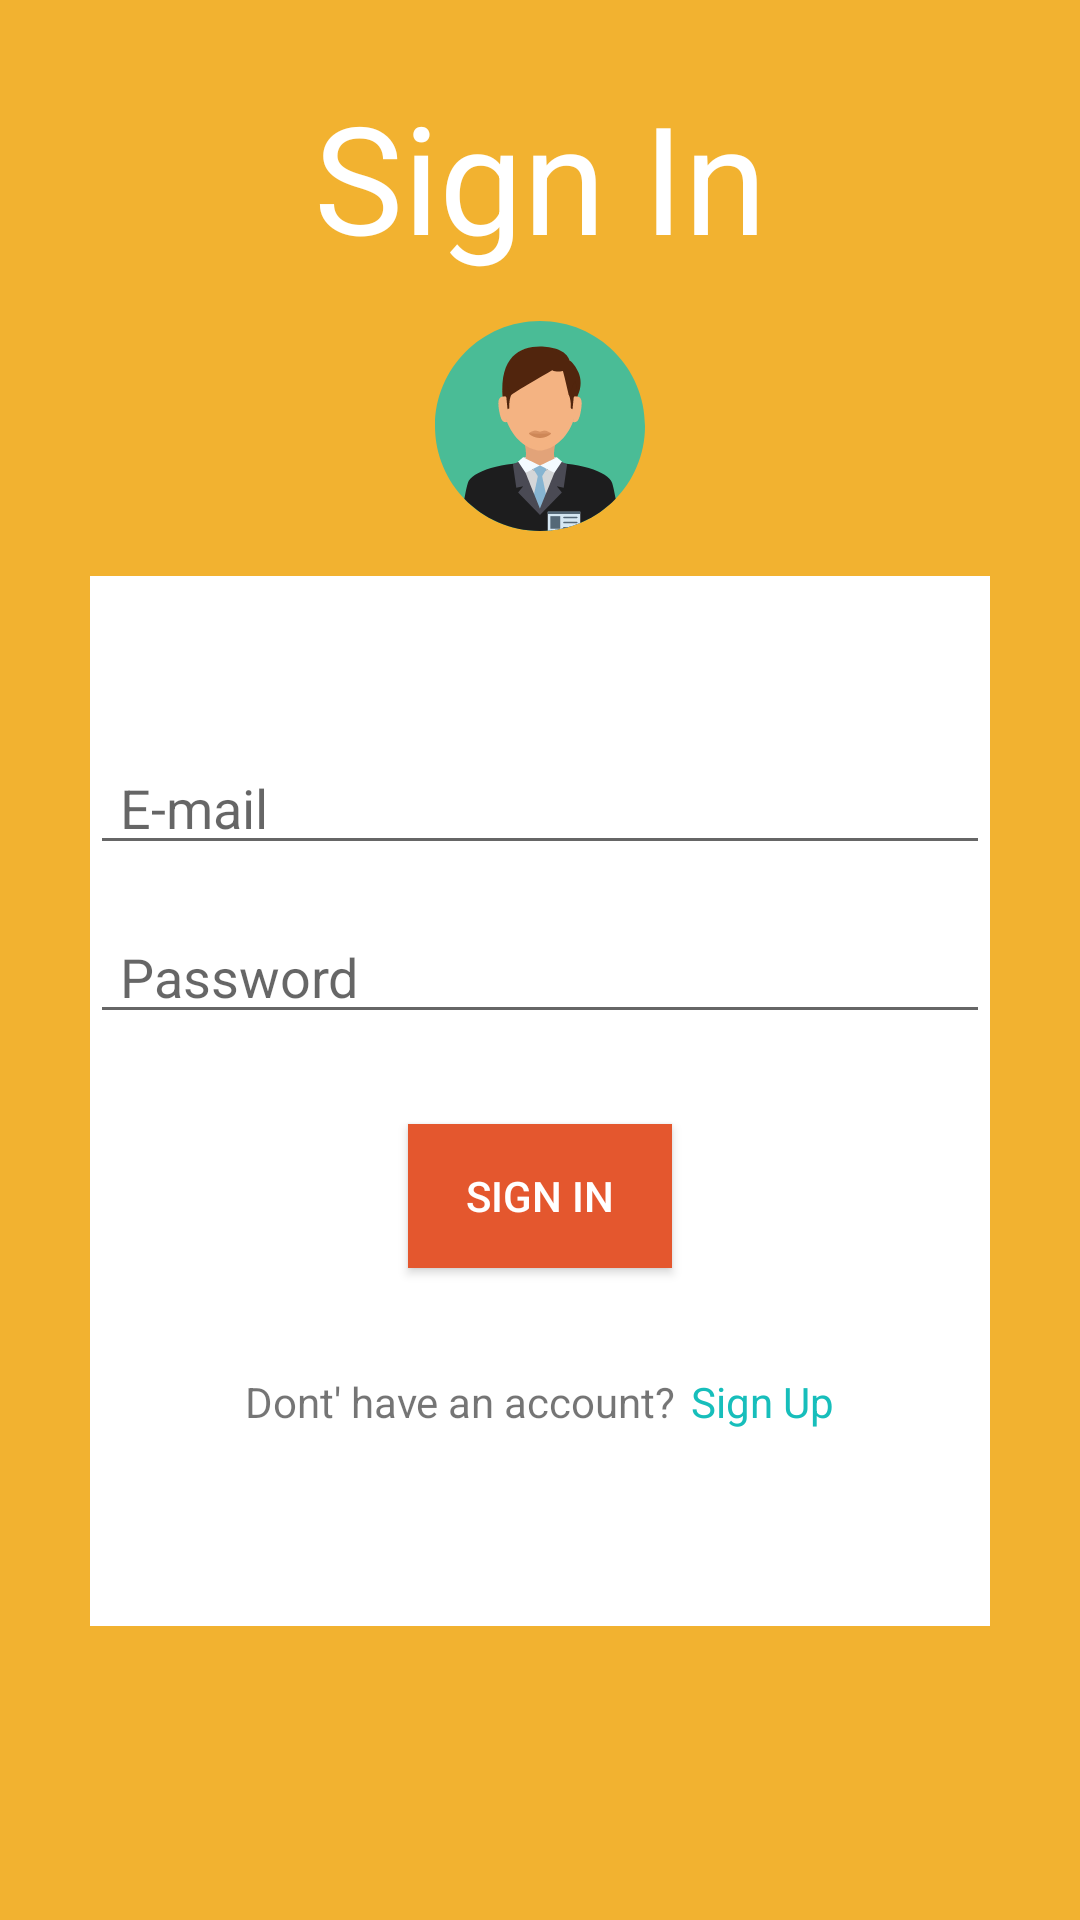

Icon click points for this 1080px×1920px phone screenshot, format point (x, y):
admin: point (540, 426)
